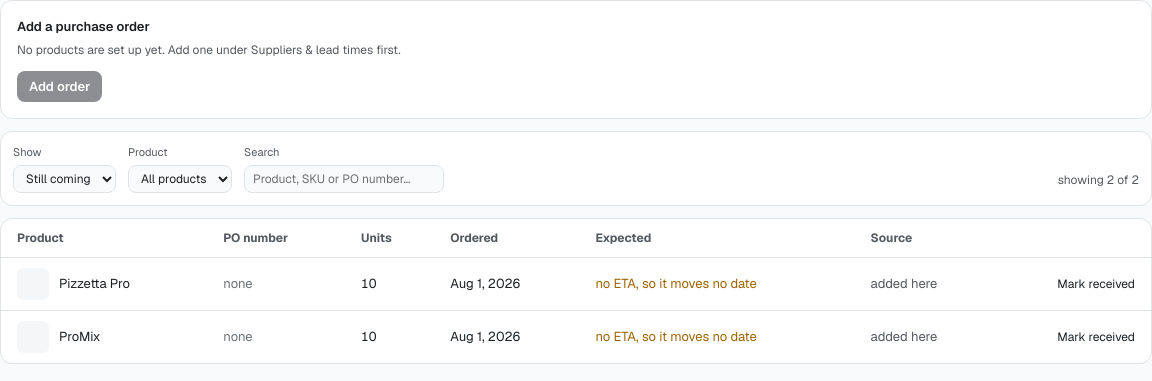
Scenario: PurchaseOrdersClient filtering › searches by SKU too
The width and height of the screenshot is (1152, 381).
Type "PANPIZ" into the search field named "Search purchase orders" at (344, 178), box [244,164,444,192]
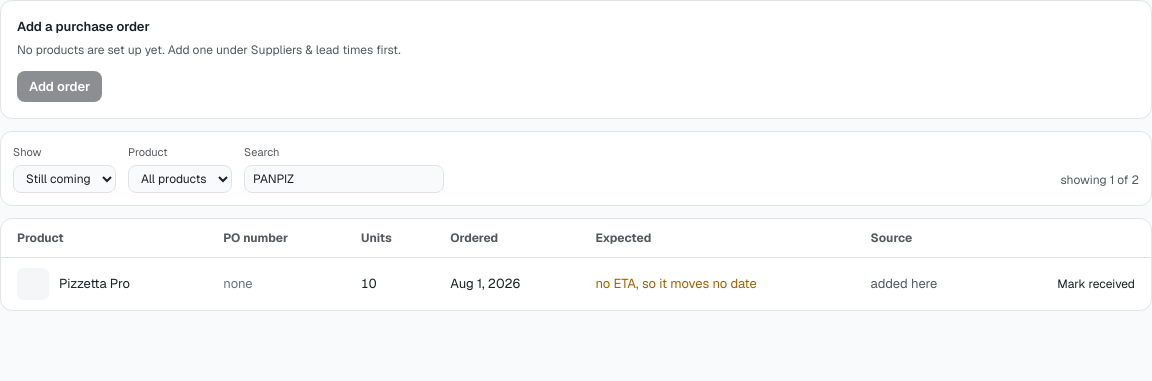
Check: the text "Pizzetta Pro" is shown, box [59,274,130,293]
Check: the text "ProMix" is gone
